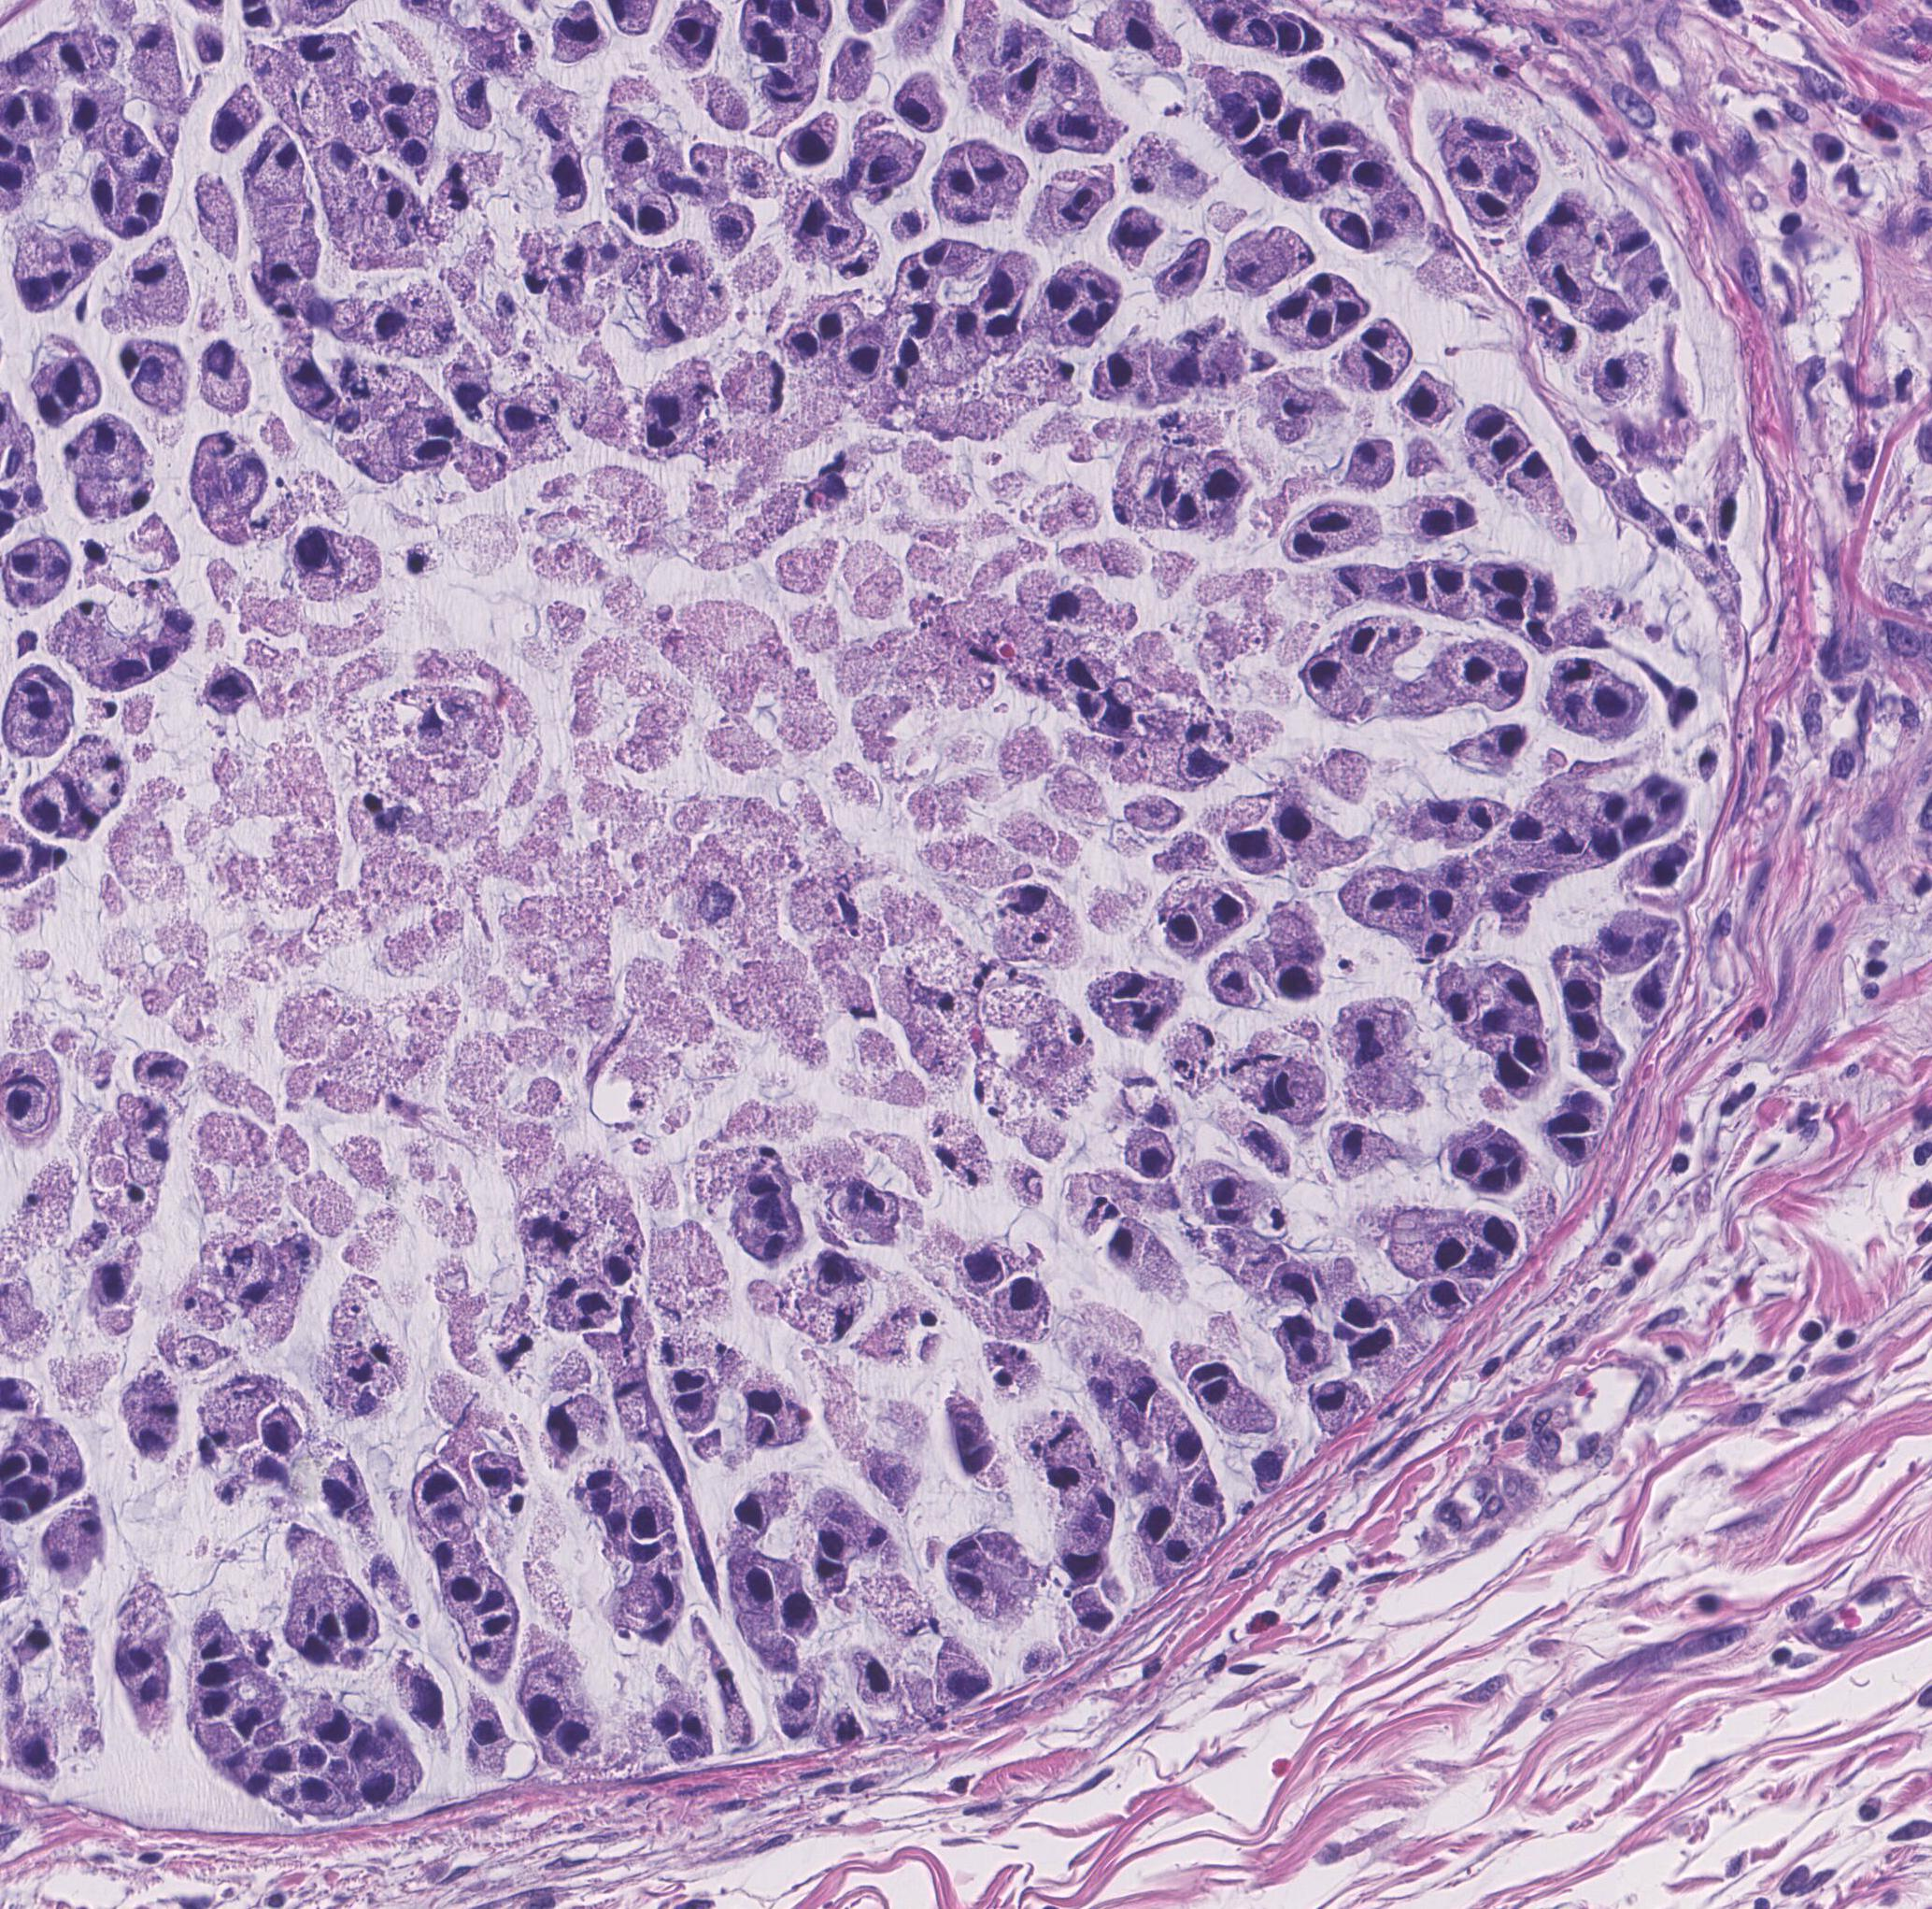ring_cell_cancer: (946, 1526, 1046, 1626), (51, 734, 143, 825), (283, 519, 385, 600), (1273, 792, 1367, 878), (733, 1152, 804, 1260), (1500, 456, 1586, 545), (198, 435, 266, 545), (1107, 1210, 1185, 1301), (1296, 645, 1378, 727), (355, 299, 462, 360), (1236, 1058, 1329, 1126), (248, 40, 313, 136), (1331, 998, 1420, 1066), (1177, 1159, 1269, 1224), (1046, 161, 1115, 243), (1259, 376, 1345, 442), (17, 767, 91, 844), (70, 411, 149, 482), (1341, 862, 1425, 928), (820, 1491, 897, 1563), (519, 1650, 582, 1736), (124, 246, 189, 327), (10, 668, 70, 755), (1039, 100, 1128, 157), (38, 339, 103, 418), (245, 128, 308, 206), (2, 1065, 65, 1143), (1395, 1210, 1472, 1273), (537, 1399, 608, 1465), (1063, 1486, 1108, 1589), (1589, 668, 1651, 743), (129, 337, 191, 413), (1273, 1309, 1336, 1381), (337, 425, 411, 486), (281, 351, 341, 427), (1194, 1383, 1276, 1437), (393, 1657, 451, 1734), (1037, 1425, 1105, 1489), (131, 26, 187, 105), (853, 131, 923, 194), (1432, 636, 1495, 706), (1345, 612, 1416, 673), (1449, 727, 1539, 776), (935, 1640, 995, 1713), (825, 1182, 900, 1239), (970, 138, 1026, 215), (329, 87, 392, 156), (1476, 968, 1544, 1031), (1229, 224, 1289, 295), (1616, 241, 1675, 313), (315, 1456, 374, 1526), (467, 1687, 512, 1778), (1301, 500, 1385, 549), (1325, 1260, 1385, 1329), (1222, 823, 1292, 881), (727, 1477, 797, 1535), (1512, 787, 1584, 843), (1331, 1126, 1404, 1180), (645, 367, 706, 432), (199, 656, 261, 720), (1098, 337, 1157, 404), (236, 1281, 302, 1341), (201, 1386, 261, 1453), (1161, 1021, 1219, 1089), (726, 348, 783, 416), (953, 1393, 1000, 1475), (519, 86, 582, 147), (1234, 1119, 1296, 1182), (1626, 837, 1699, 890), (114, 1607, 171, 1673), (1208, 949, 1266, 1014), (201, 341, 252, 414), (935, 147, 981, 227), (1115, 1358, 1161, 1439), (337, 1575, 383, 1656), (1348, 1320, 1407, 1381), (869, 1447, 927, 1510), (23, 227, 65, 313), (295, 38, 364, 91), (733, 1549, 780, 1624), (198, 173, 238, 260), (318, 140, 372, 205), (210, 86, 262, 152), (941, 304, 988, 378), (1159, 1395, 1206, 1468), (1259, 949, 1329, 998), (846, 1647, 902, 1708), (617, 1572, 687, 1621), (121, 1371, 182, 1427), (899, 73, 953, 136), (727, 142, 782, 205), (1395, 491, 1458, 545), (376, 170, 423, 241), (1096, 995, 1173, 1038), (983, 241, 1026, 318), (1201, 451, 1252, 516), (40, 1524, 91, 1589), (1483, 642, 1528, 713), (1115, 1128, 1182, 1177), (997, 1278, 1053, 1336), (1268, 1260, 1325, 1316), (73, 481, 150, 523), (759, 63, 817, 119), (783, 182, 834, 245), (1110, 205, 1161, 267), (993, 52, 1039, 122), (451, 343, 493, 418), (115, 1418, 182, 1465), (1402, 1280, 1474, 1323), (299, 1573, 343, 1645), (605, 126, 663, 180), (650, 290, 705, 348), (59, 603, 121, 654), (1530, 224, 1593, 273), (1157, 241, 1205, 306), (124, 1673, 171, 1738), (1129, 129, 1175, 196), (374, 432, 460, 467), (832, 33, 876, 101), (1470, 435, 1533, 482), (1434, 968, 1481, 1031), (1026, 58, 1103, 96), (1201, 883, 1257, 935), (86, 1257, 138, 1313), (785, 115, 843, 166), (892, 253, 942, 311), (285, 1521, 343, 1572), (1338, 344, 1397, 393), (991, 879, 1058, 923), (1178, 1337, 1240, 1385), (488, 1318, 535, 1379), (811, 1248, 874, 1294), (1364, 316, 1418, 369), (1406, 372, 1456, 428), (1311, 1378, 1367, 1428), (589, 1236, 645, 1287), (357, 1766, 421, 1809), (397, 406, 474, 442), (1159, 337, 1199, 407), (1593, 357, 1652, 404), (549, 1269, 591, 1336), (844, 315, 883, 386), (1542, 253, 1595, 306), (706, 206, 761, 257), (1345, 439, 1395, 493), (1484, 149, 1542, 196), (72, 93, 133, 136), (1458, 184, 1519, 227), (124, 143, 177, 194), (551, 1717, 601, 1769), (1278, 516, 1332, 565), (1060, 645, 1114, 694), (409, 1458, 465, 1505), (61, 31, 119, 77), (262, 234, 301, 302), (741, 1374, 806, 1414), (126, 1129, 170, 1189), (1609, 472, 1657, 524), (1497, 1054, 1544, 1108), (689, 140, 727, 206), (914, 239, 981, 278), (1185, 1474, 1224, 1540), (998, 21, 1054, 66), (439, 152, 479, 215), (1553, 607, 1610, 650), (1572, 427, 1616, 484), (87, 654, 156, 691), (498, 397, 547, 448), (1163, 904, 1210, 956), (956, 1248, 1009, 1295), (281, 1621, 334, 1668), (1547, 682, 1593, 736), (1088, 970, 1175, 998), (220, 1238, 276, 1281), (1042, 587, 1108, 624), (1635, 956, 1671, 1023), (17, 1724, 59, 1781), (1324, 206, 1374, 253), (477, 1453, 525, 1503), (306, 1699, 353, 1750), (1210, 72, 1250, 131), (1035, 262, 1075, 322), (654, 246, 713, 287), (416, 1507, 481, 1544), (645, 1678, 684, 1739), (233, 1703, 294, 1741), (262, 1399, 304, 1454), (1542, 187, 1596, 229), (1297, 145, 1352, 187), (518, 233, 552, 297), (1453, 797, 1509, 837), (778, 1586, 818, 1642), (1269, 164, 1325, 205), (178, 1285, 227, 1330), (455, 72, 493, 129), (1439, 142, 1490, 185), (549, 150, 584, 213), (1182, 745, 1234, 787), (1407, 802, 1462, 843), (1460, 114, 1516, 152), (1114, 455, 1142, 531), (638, 191, 684, 238), (621, 1294, 652, 1362), (1269, 288, 1313, 337), (1582, 288, 1631, 332), (171, 1339, 233, 1374), (1476, 561, 1533, 598), (1435, 561, 1470, 621), (12, 40, 58, 86), (1380, 192, 1425, 238), (278, 1232, 323, 1278), (460, 1643, 516, 1680), (1136, 1496, 1177, 1547), (631, 1486, 671, 1537), (824, 208, 860, 262), (136, 1052, 191, 1089), (1095, 691, 1138, 736), (65, 227, 107, 274), (1610, 206, 1652, 253), (1463, 1220, 1511, 1262), (1315, 117, 1373, 150), (815, 301, 860, 343), (1075, 1591, 1117, 1636), (1467, 402, 1514, 442), (1243, 73, 1283, 121), (30, 91, 65, 145), (386, 101, 435, 140), (243, 1449, 292, 1488), (1353, 154, 1397, 196), (337, 1341, 379, 1385), (782, 323, 827, 364), (579, 1278, 619, 1323), (818, 1704, 864, 1745), (439, 1573, 500, 1603), (68, 1509, 107, 1556), (1561, 970, 1603, 1012), (1161, 1531, 1199, 1577), (194, 1619, 240, 1657), (1254, 1442, 1289, 1491), (292, 1781, 346, 1813), (201, 1661, 266, 1687), (107, 121, 152, 157), (673, 1393, 719, 1430), (124, 1098, 170, 1135), (425, 1545, 484, 1573), (337, 1385, 386, 1418), (1269, 105, 1310, 145), (1539, 318, 1579, 358), (745, 1418, 796, 1449), (376, 75, 421, 110), (129, 180, 164, 224), (1334, 566, 1378, 601), (556, 233, 591, 276), (19, 1619, 54, 1663), (191, 1689, 236, 1722), (93, 164, 119, 220), (1159, 449, 1182, 512), (1306, 273, 1360, 299), (682, 1690, 708, 1745), (406, 540, 444, 577), (794, 1292, 829, 1332), (659, 1731, 703, 1762), (161, 607, 192, 650), (659, 1369, 719, 1392), (288, 1741, 327, 1776), (392, 136, 432, 170), (783, 1680, 818, 1717), (1453, 1136, 1483, 1178), (1542, 1115, 1602, 1136), (212, 1752, 254, 1781), (1595, 788, 1630, 823), (1254, 147, 1287, 184), (12, 542, 45, 579), (194, 24, 226, 63), (575, 1491, 631, 1512), (21, 477, 49, 519), (262, 1743, 295, 1776), (114, 206, 147, 238), (1175, 493, 1201, 531), (895, 210, 927, 238), (587, 1474, 622, 1489)
